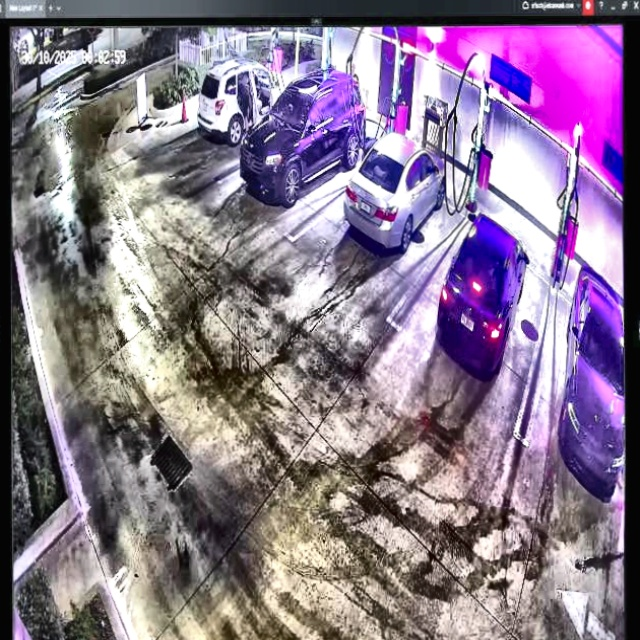Car: (242, 71, 365, 209), (439, 213, 528, 379), (343, 133, 447, 251)
